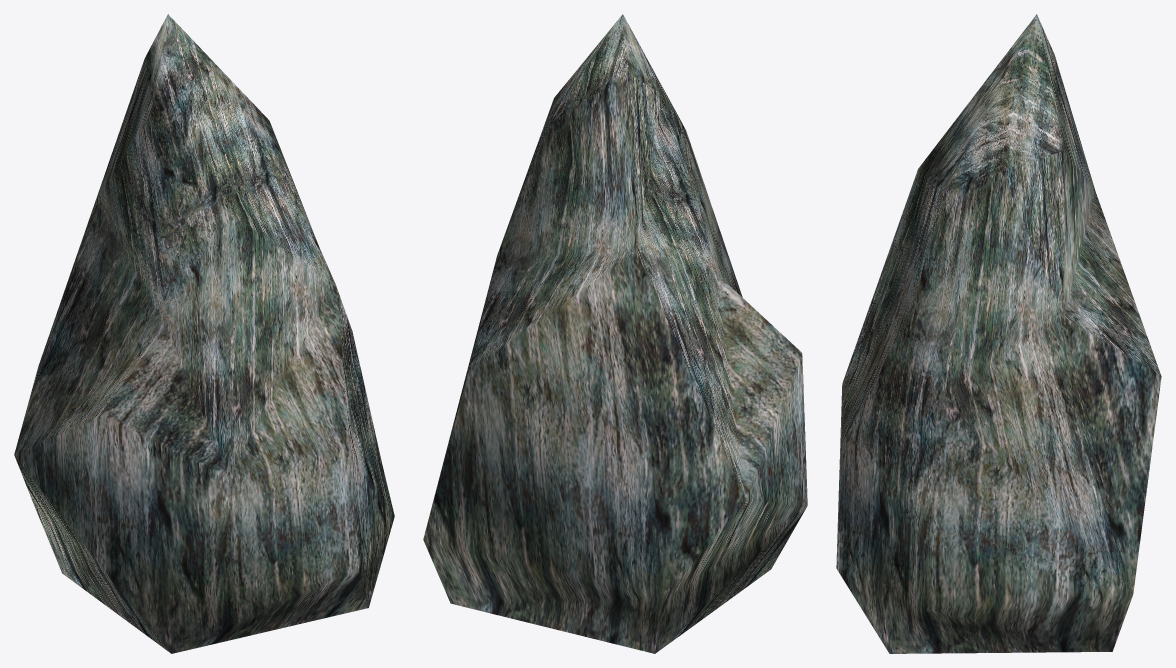
File: rock_dath_desertcanyon_md_l2.fbx
3 views of the same model, side by side, from view 1: azimuth 30°, elevation 25°; view 2: azimuth 150°, elevation 25°; view 3: azimuth 270°, elevation 25° (orthographic). The views are drawn at different scales.
Parts seen in each view (by area): view 1: mesh_node; view 2: mesh_node; view 3: mesh_node.
Part boxes in pixels (box(x1,y1,x2,y2)): mesh_node: box(14, 14, 394, 653); mesh_node: box(423, 14, 807, 653); mesh_node: box(836, 14, 1161, 653).
Bounding box in the file's own units: 4.57 × 8.08 × 4.13.
